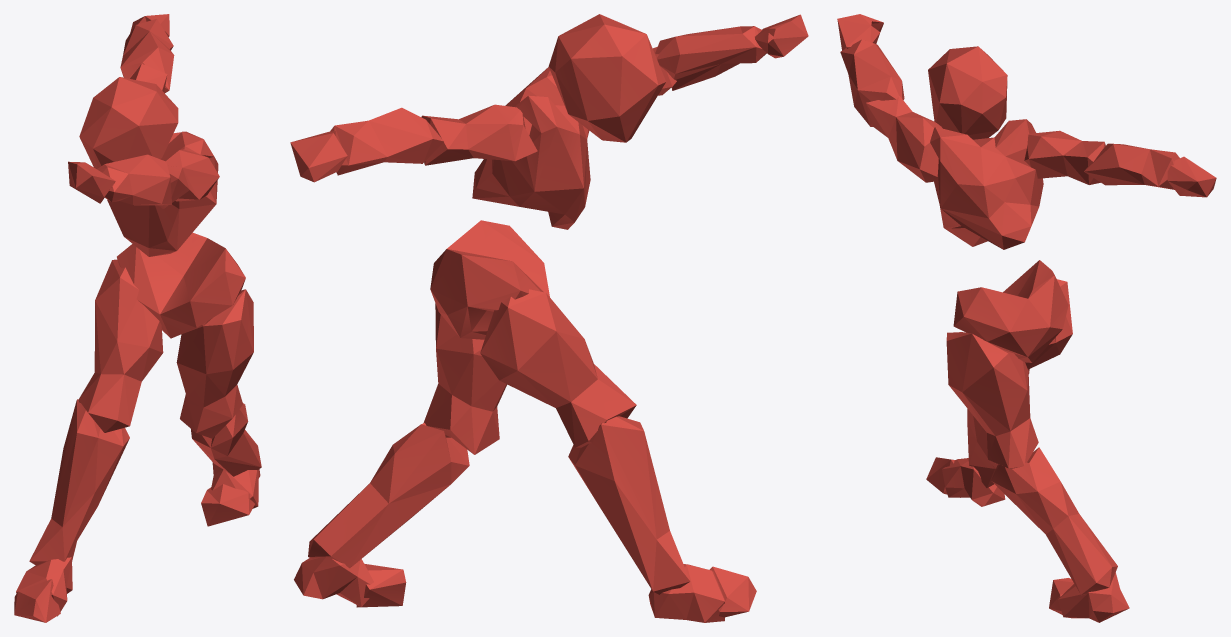
Rendered from 2dancer0186.obj.
3 views of the same model, side by side, from view 1: azimuth 30°, elevation 25°; view 2: azimuth 150°, elevation 25°; view 3: azimuth 270°, elevation 25° (orthographic). The views are drawn at different scales.
Visible parts, largest first — view 1: Beta_Surface; view 2: Beta_Surface; view 3: Beta_Surface.
Boxes of the visible parts, box(x1,y1,x2,y2) form: Beta_Surface: box(14, 14, 261, 622); Beta_Surface: box(290, 14, 808, 622); Beta_Surface: box(837, 14, 1216, 622).
Bounding box in the file's own units: 1.08 × 1.66 × 1.15.
